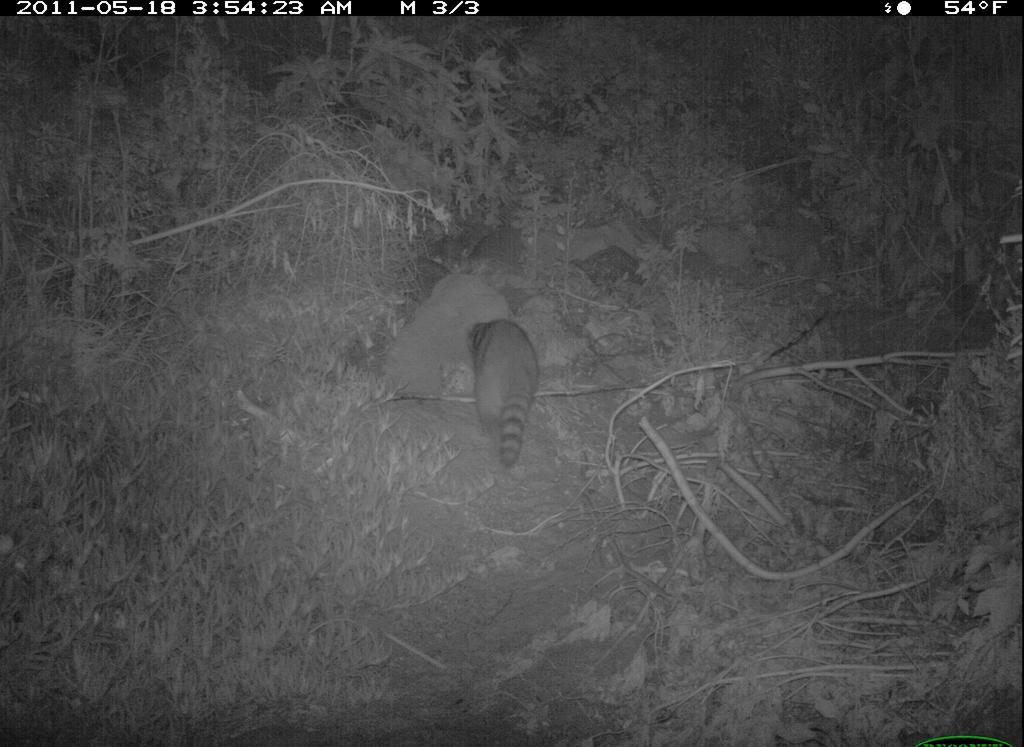raccoon: (457, 313, 547, 477)
